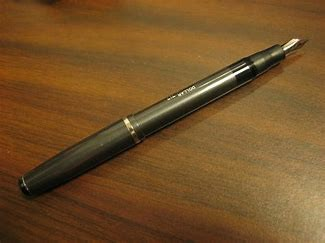pen: (21, 37, 307, 194)
